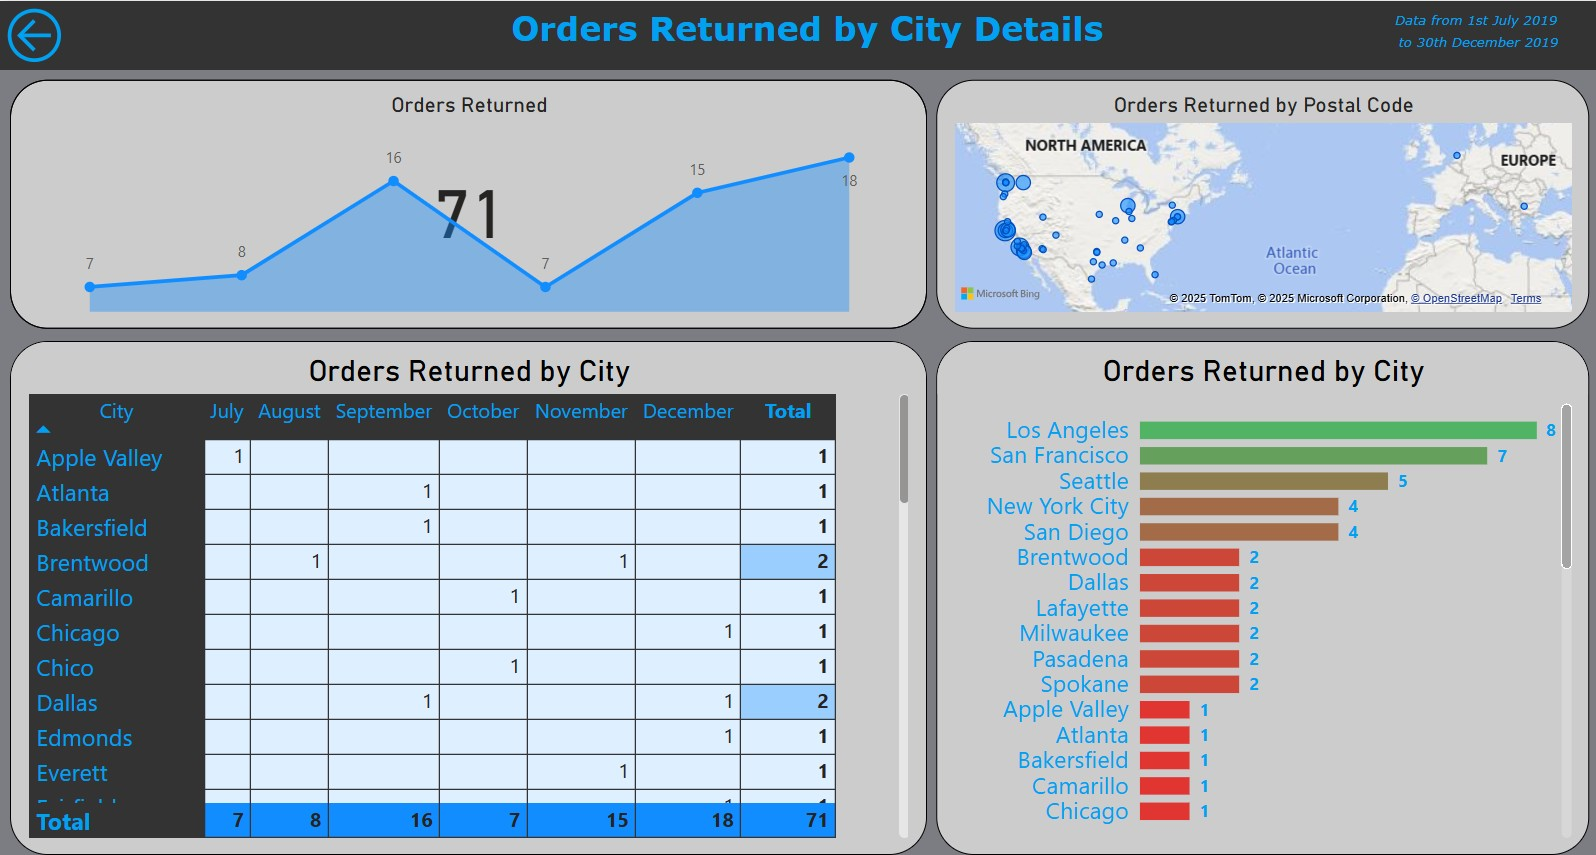

This screenshot's page, from the dashboard's own definition file:
{"tool":"powerbi","page":{"name":"Orders Returned By City","canvas":[1280,690],"ordinal":4},"visuals":[{"type":"pivotTable","title":"Orders Returned by City","fields":{"Rows":["Geographical_DimTable.City"],"Columns":["Orders_Table.Order Date.Variation.Date Hierarchy.Month"],"Values":["Count(Orders_Table.Order ID)"]},"box":[7.8,272.2,733.3,411.1],"z":0},{"type":"actionButton","box":[0,0,81,55],"z":1000},{"type":"textbox","box":[81.2,0,1128.8,55],"z":2000},{"type":"textbox","box":[1085,0,195,55],"z":3000},{"type":"barChart","title":"Orders Returned by City","fields":{"Category":["Geographical_DimTable.City"],"Y":["Count(Orders_Table.Order ID)"]},"box":[748.9,272.2,522.2,411.1],"z":4000},{"type":"card","title":"Sales in Last 6 Months","fields":{"Values":["Count(Orders_Table.Order ID)"]},"box":[7.8,63.3,733.3,198.9],"z":5000},{"type":"areaChart","title":"Orders Returned","fields":{"Category":["Orders_Table.Order Date.Variation.Date Hierarchy.Month"],"Y":["Count(Orders_Table.Order ID)"]},"box":[7.8,63.3,733.3,198.9],"z":6000},{"type":"map","title":"Orders Returned by Postal Code","fields":{"Category":["Geographical_DimTable.Postal Code"],"Size":["Count(Orders_Table.Order ID)"]},"box":[748.9,63.3,522.2,198.9],"z":7000}]}

Visuals, with their boxes in screenshot pixels (x1, y1, x2, y2), scaled from the page's 1280x690 canvas onto the 1596x855 screenshot:
"Orders Returned by City" pivotTable: rect(10, 337, 924, 847)
actionButton: rect(0, 0, 101, 68)
textbox: rect(101, 0, 1509, 68)
textbox: rect(1353, 0, 1595, 68)
"Orders Returned by City" barChart: rect(934, 337, 1585, 847)
"Sales in Last 6 Months" card: rect(10, 78, 924, 325)
"Orders Returned" areaChart: rect(10, 78, 924, 325)
"Orders Returned by Postal Code" map: rect(934, 78, 1585, 325)
